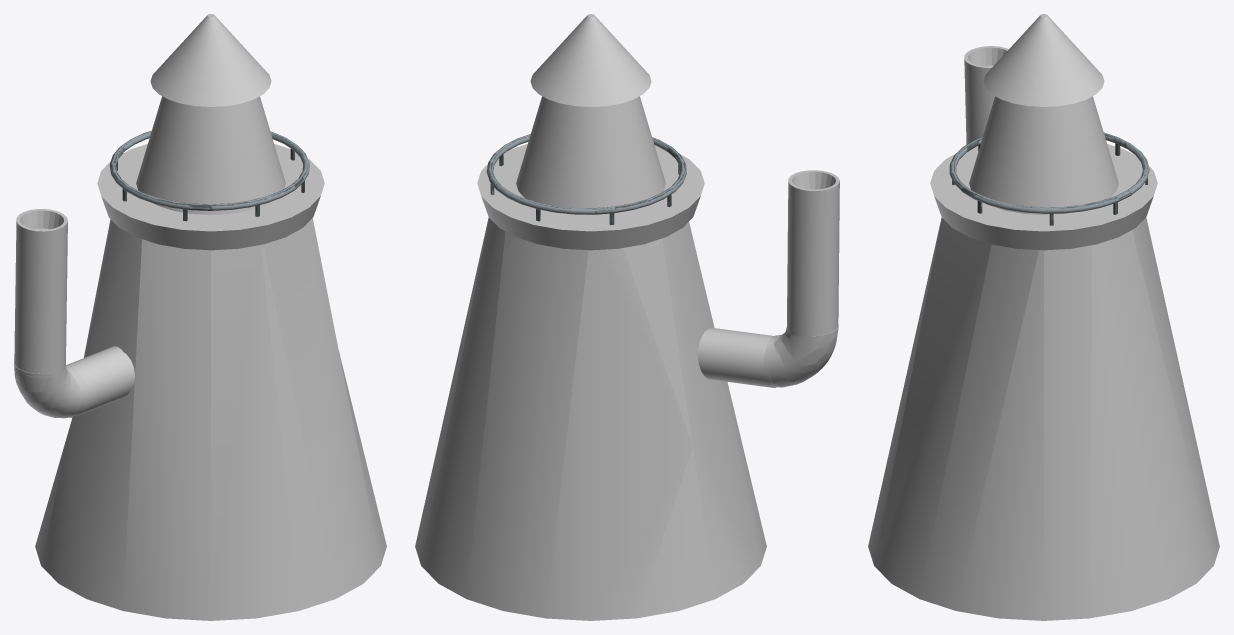
The model's file is Faro TXT.fbx.
3 renders of one model, left to right at view 1: azimuth 30°, elevation 25°; view 2: azimuth 150°, elevation 25°; view 3: azimuth 270°, elevation 25°, orthographic.
Visible parts, largest first — view 1: Cone007; view 2: Cone007; view 3: Cone007.
Part boxes in pixels (box(x1,y1,x2,y2)): Cone007: box(14, 14, 386, 620); Cone007: box(415, 14, 839, 620); Cone007: box(868, 14, 1219, 620).
Bounding box in the file's own units: 51.17 × 69.92 × 41.98.
